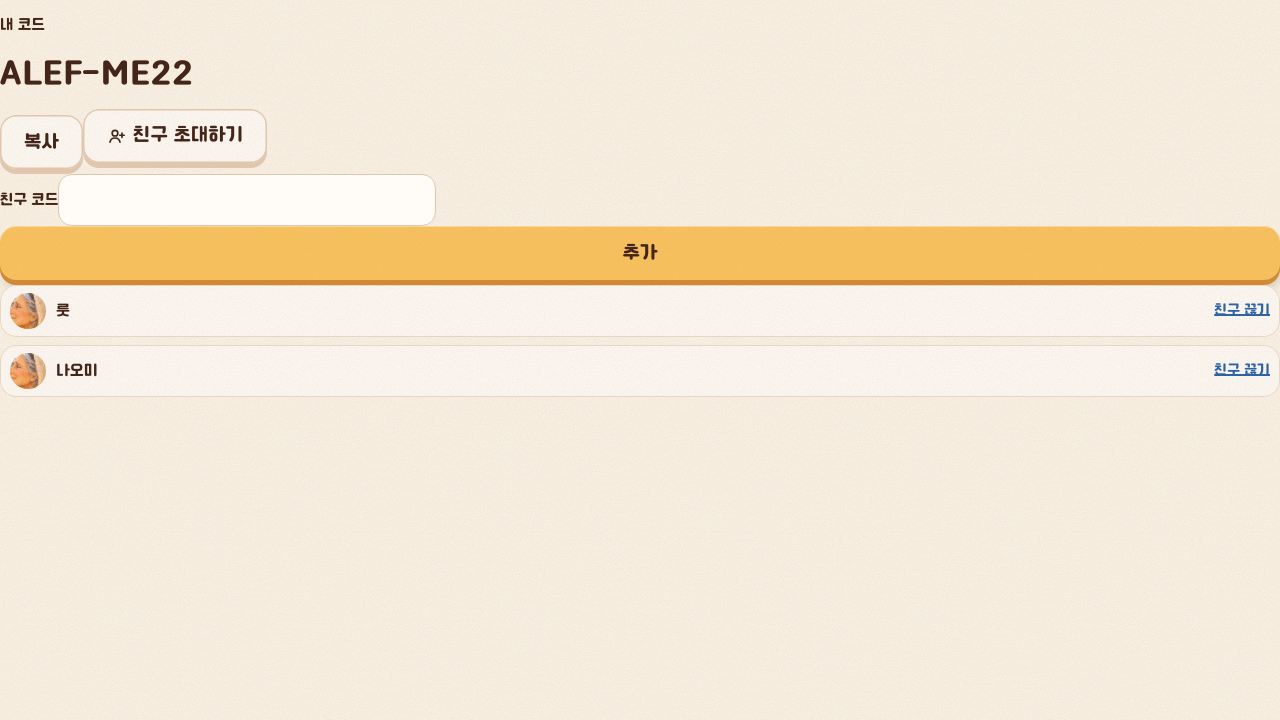
FriendsManager › error not_found -> message
Expected: the text "룻" is shown, [56, 300, 70, 322]
Type "K7Q2" into the field labelled "친구 코드" at (247,200), box [58, 174, 436, 226]
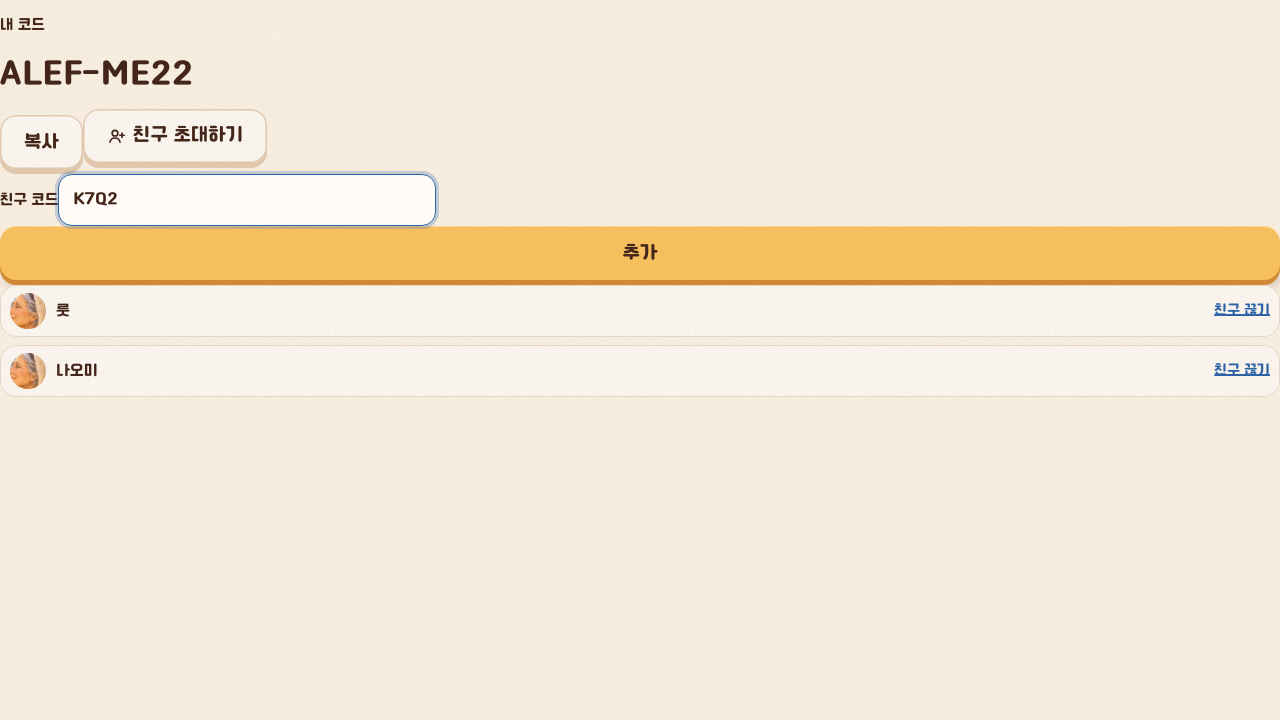
Click the button "추가" at (640,253), box [0, 226, 1279, 280]
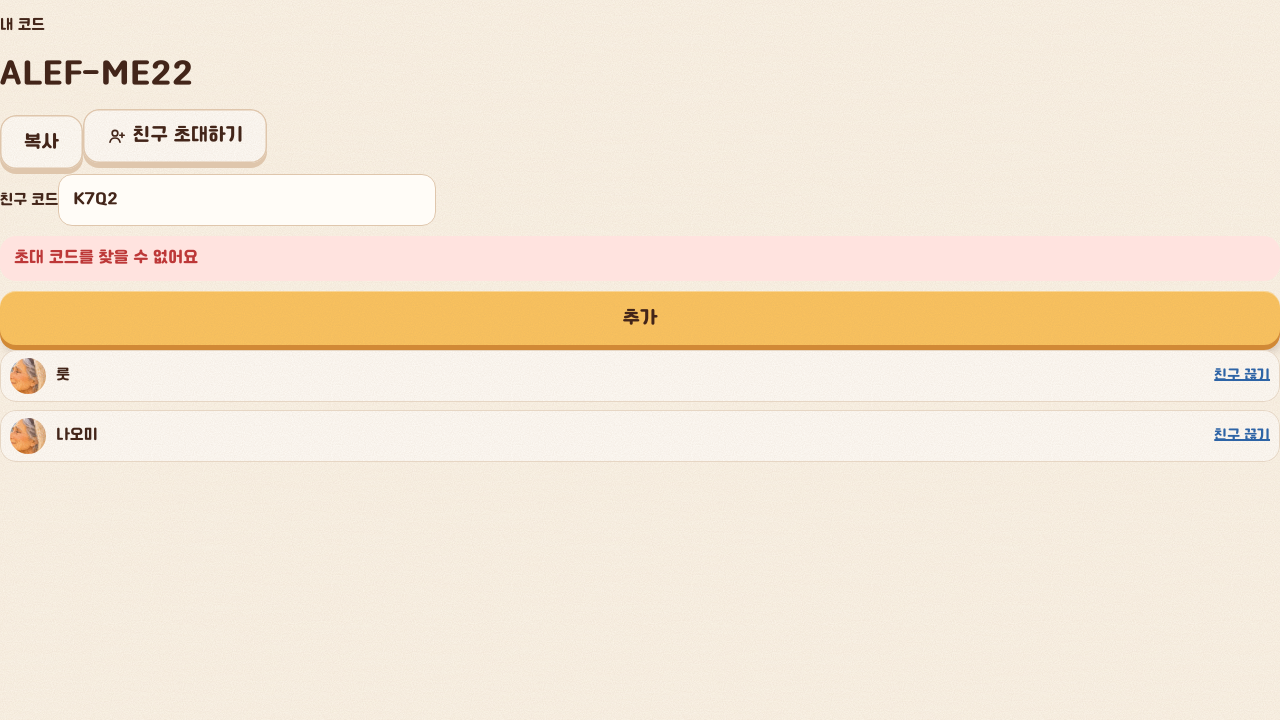
Result: the message reads "초대 코드를 찾을 수 없어요" at [14, 248, 198, 267]
